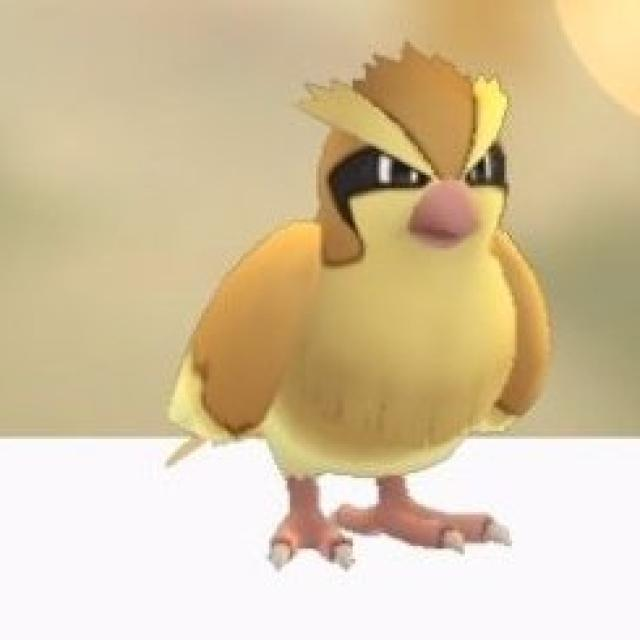Pidgey: (167, 31, 550, 576)
